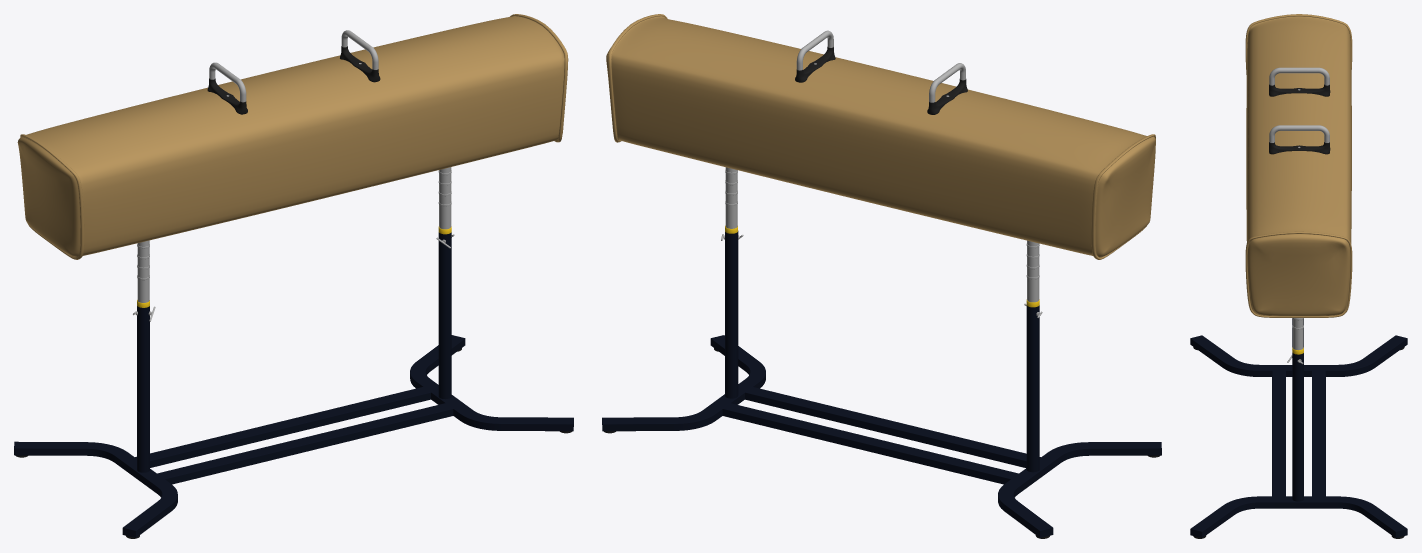
3 renders of one model, left to right at view 1: azimuth 30°, elevation 25°; view 2: azimuth 150°, elevation 25°; view 3: azimuth 270°, elevation 25°, orthographic. The views are drawn at different scales.
Visible parts, largest first — view 1: Arch27_090_01, Arch27_090_00, Arch27_090_02, Arch27_090_04, Arch27_090_30, Arch27_090_19, Arch27_090_15, Arch27_090_22, Arch27_090_12; view 2: Arch27_090_01, Arch27_090_02, Arch27_090_00, Arch27_090_04, Arch27_090_30, Arch27_090_19, Arch27_090_15, Arch27_090_12, Arch27_090_22; view 3: Arch27_090_01, Arch27_090_30, Arch27_090_04, Arch27_090_00, Arch27_090_02, Arch27_090_19, Arch27_090_34, Arch27_090_38, Arch27_090_33, Arch27_090_37, Arch27_090_22.
Part boxes in pixels (bbox=[...]): Arch27_090_01: bbox=[17, 14, 568, 259]; Arch27_090_00: bbox=[157, 403, 453, 484]; Arch27_090_02: bbox=[135, 387, 430, 467]; Arch27_090_04: bbox=[14, 441, 177, 537]; Arch27_090_30: bbox=[410, 335, 573, 431]; Arch27_090_19: bbox=[438, 232, 451, 399]; Arch27_090_15: bbox=[137, 306, 149, 472]; Arch27_090_22: bbox=[438, 167, 451, 229]; Arch27_090_12: bbox=[137, 240, 149, 302]; Arch27_090_01: bbox=[606, 14, 1155, 259]; Arch27_090_02: bbox=[722, 403, 1018, 484]; Arch27_090_00: bbox=[745, 387, 1040, 467]; Arch27_090_04: bbox=[998, 442, 1161, 537]; Arch27_090_30: bbox=[602, 335, 765, 431]; Arch27_090_19: bbox=[725, 231, 738, 398]; Arch27_090_15: bbox=[1026, 305, 1039, 472]; Arch27_090_12: bbox=[1026, 240, 1039, 302]; Arch27_090_22: bbox=[725, 167, 737, 228]; Arch27_090_01: bbox=[1245, 14, 1352, 317]; Arch27_090_30: bbox=[1190, 496, 1407, 537]; Arch27_090_04: bbox=[1190, 335, 1407, 376]; Arch27_090_00: bbox=[1272, 370, 1285, 496]; Arch27_090_02: bbox=[1312, 370, 1325, 496]; Arch27_090_19: bbox=[1292, 352, 1303, 501]; Arch27_090_34: bbox=[1269, 67, 1329, 85]; Arch27_090_38: bbox=[1269, 125, 1329, 142]; Arch27_090_33: bbox=[1269, 84, 1330, 96]; Arch27_090_37: bbox=[1269, 142, 1330, 154]; Arch27_090_22: bbox=[1292, 318, 1303, 350].
Size of the model in its own units: 2108 by 1530 by 872.
